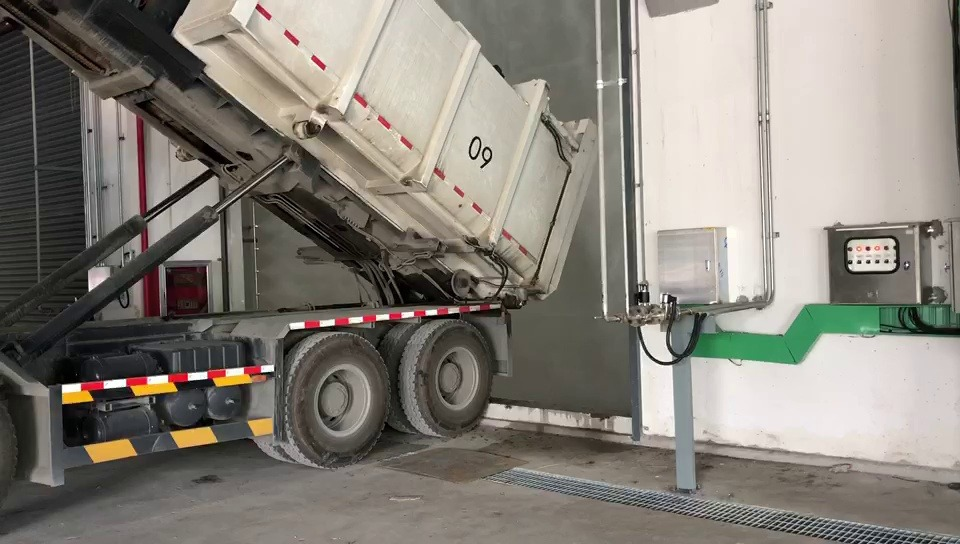truck: (0, 0, 604, 500)
